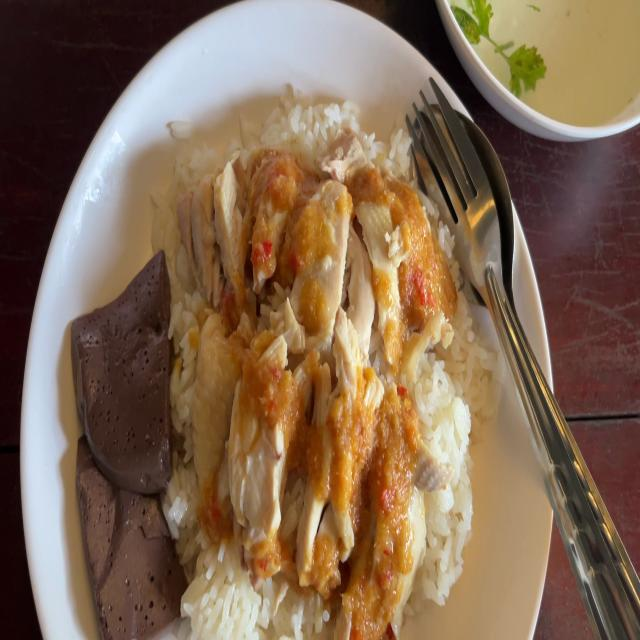boiled_chicken: (175, 169, 437, 562)
boiled_chicken_blood_jelly: (70, 250, 176, 528), (68, 427, 176, 640)
chicken_rice: (61, 94, 483, 640)
